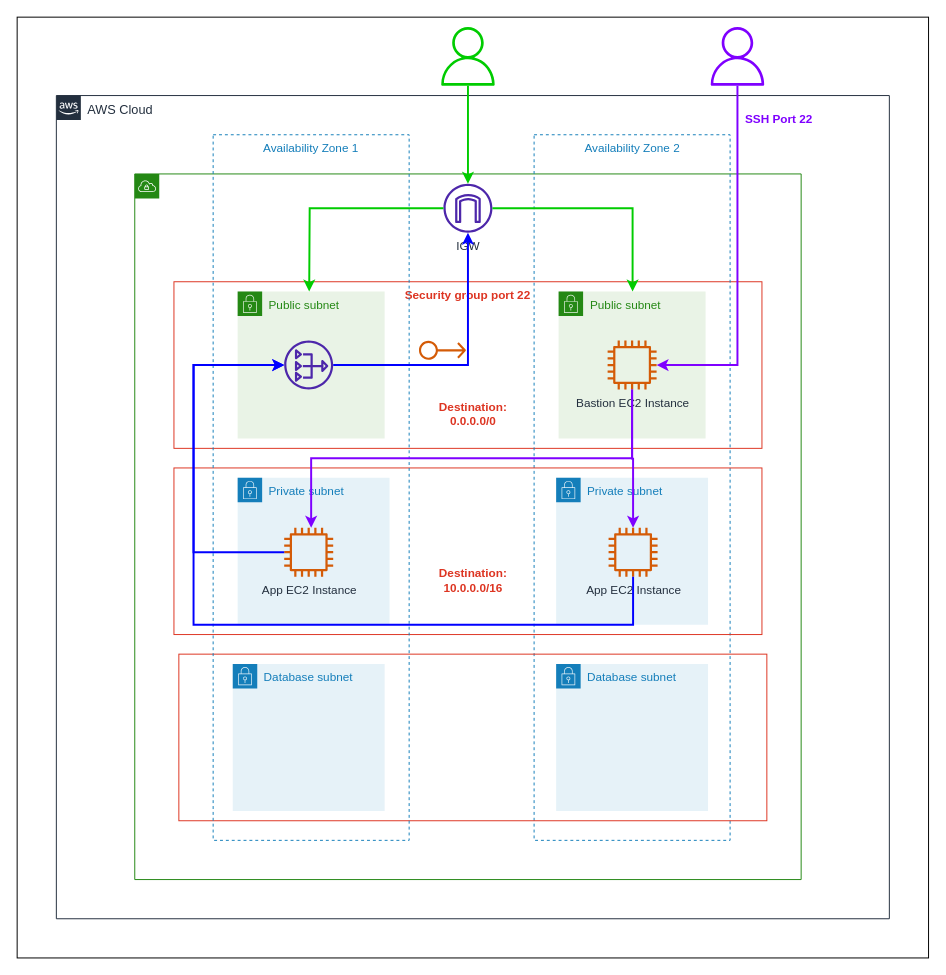
This 946x975 diagram has some shape labels left out. The shapes that lost their labels are listed below. From the top down, each one's box as (x1, y1, x2, y2) in pixels, then its label:
(438, 26, 497, 85): Users
(708, 26, 766, 85): Admin
(284, 340, 333, 389): NAT Gateway
(418, 340, 466, 360): EIP
(134, 173, 801, 880): VPC
(173, 467, 762, 635): Security group port 22 & port 80
(178, 653, 767, 821): Security group
